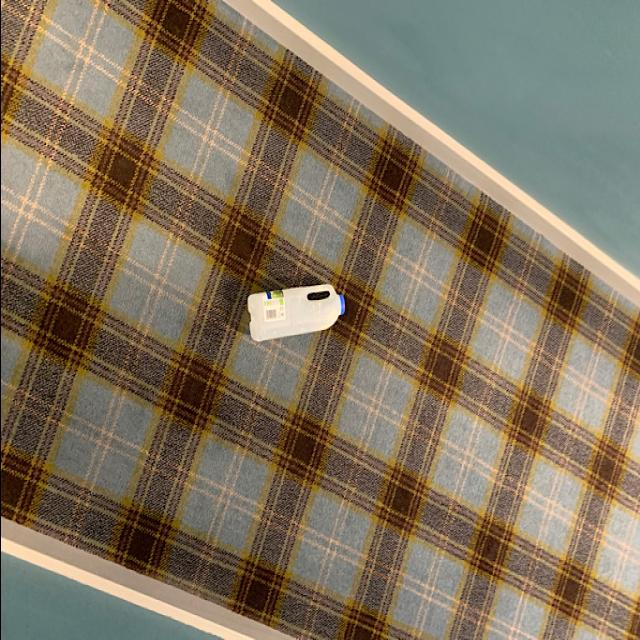litter: (244, 280, 346, 340)
